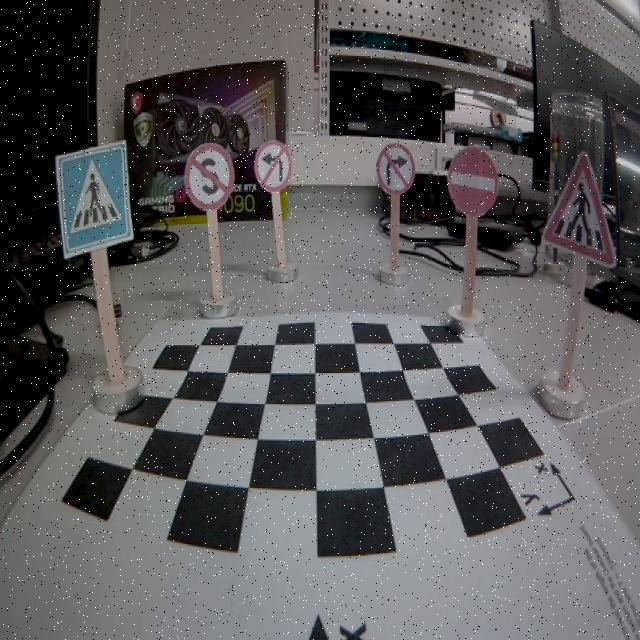Dilarang Belok Kanan: (376, 143, 416, 196)
Dilarang Belok Kiri: (252, 138, 292, 192)
Dilarang Masuk: (446, 146, 498, 217)
Rambu Berhenti: (185, 144, 235, 210)
Rambu Penyebrangan: (55, 140, 134, 258), (542, 154, 614, 262)
